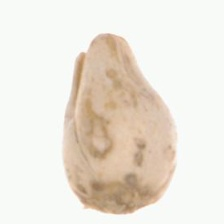L1: (74, 33, 126, 70), (81, 197, 159, 215)
L2: (62, 33, 178, 214)
